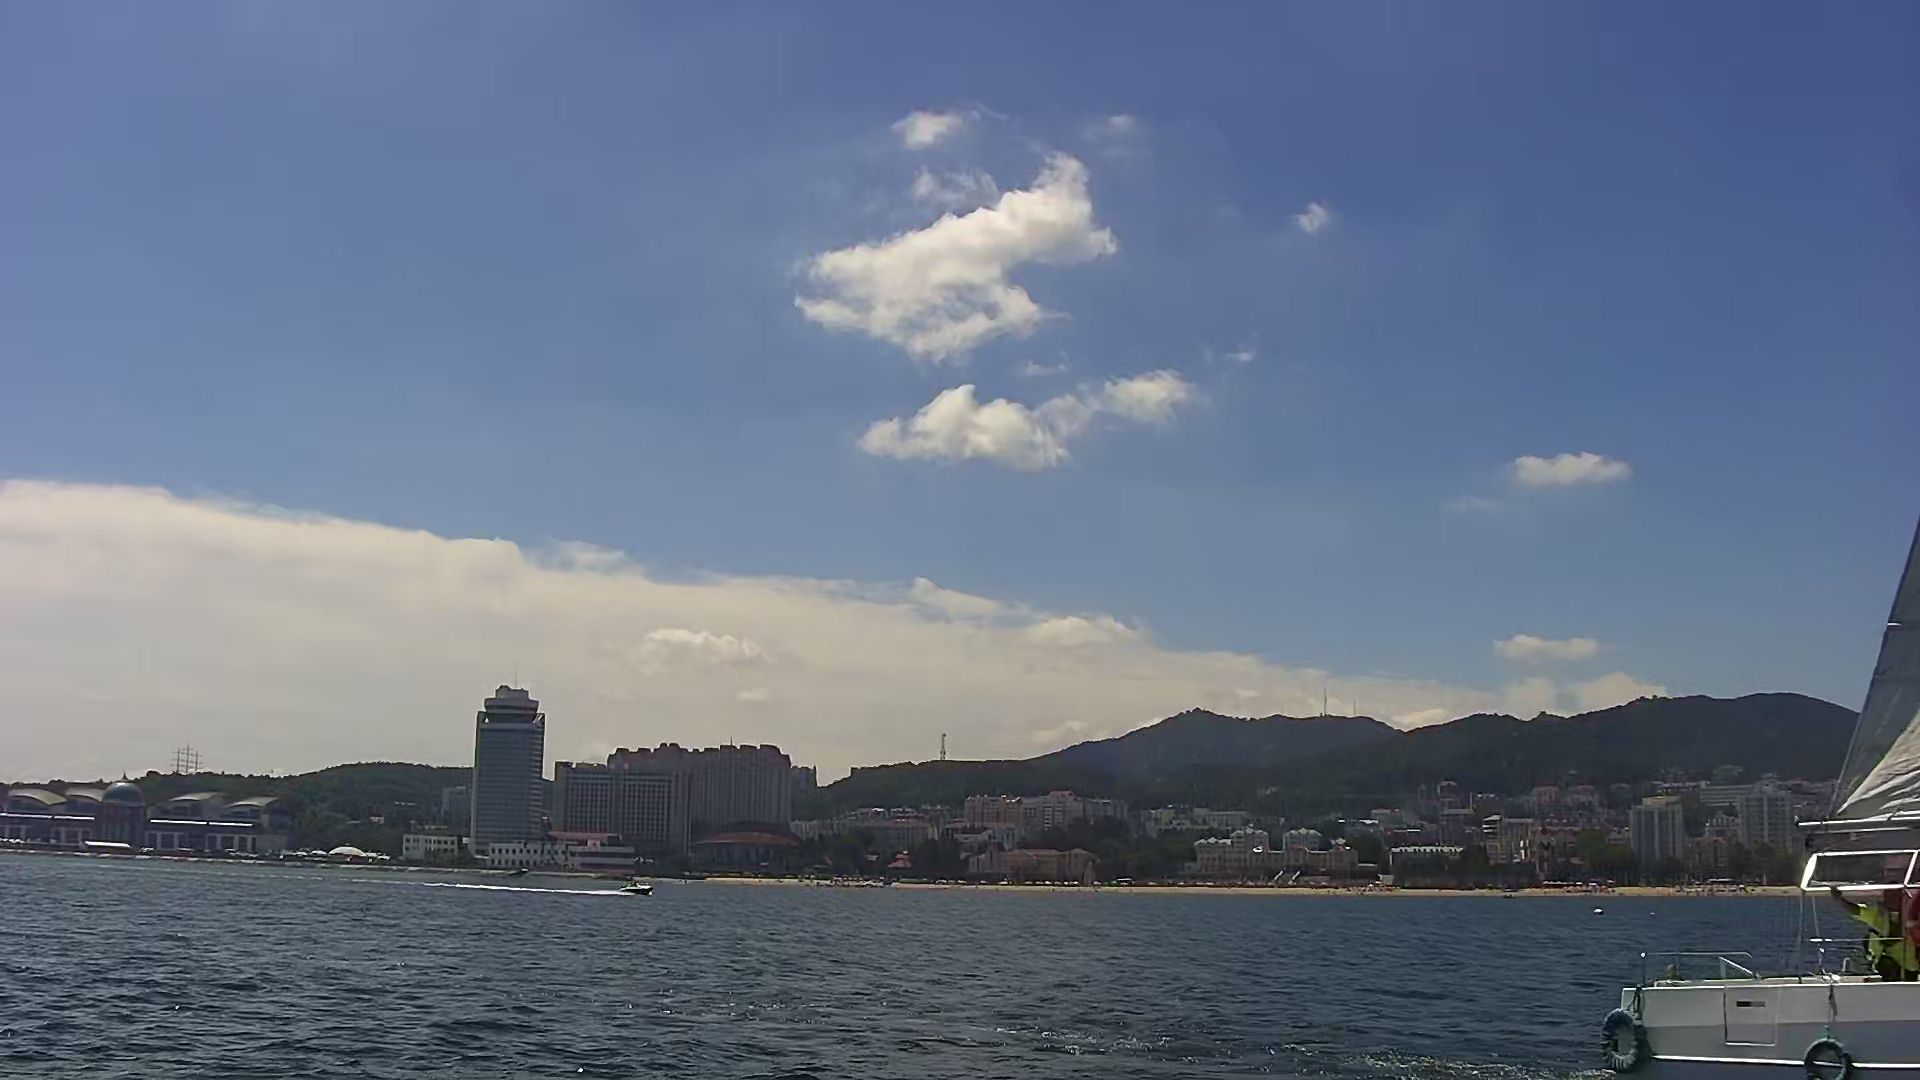boat: (1604, 480, 1920, 1073)
